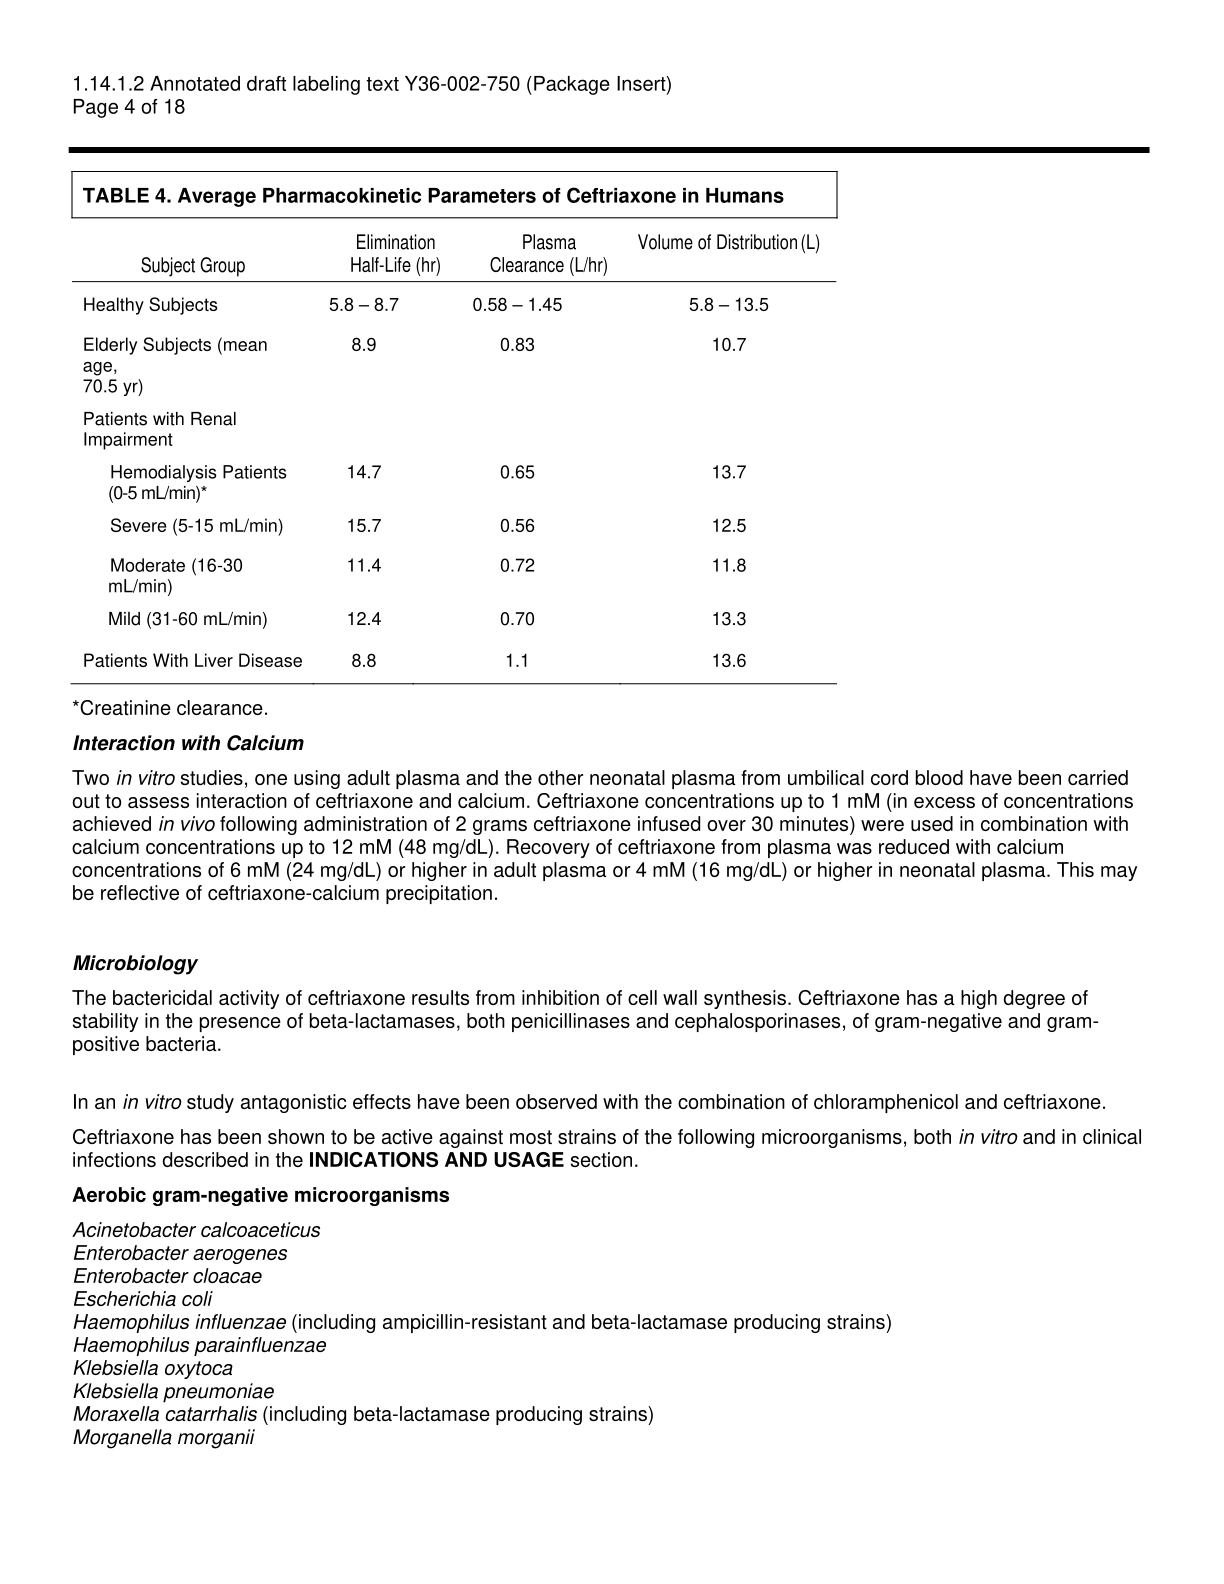partial_lined: (69, 221, 834, 688)
